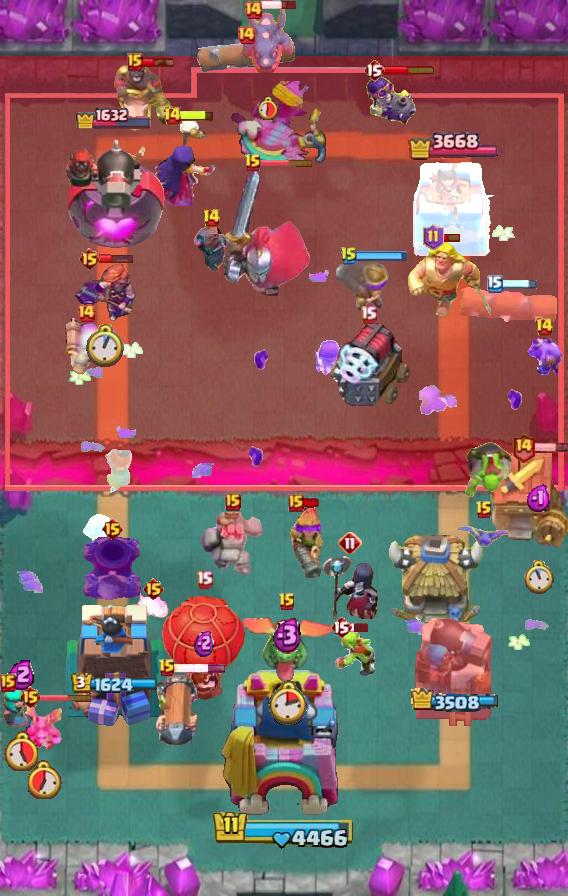bar: (383, 64, 436, 76), (356, 250, 408, 262), (174, 663, 227, 674), (39, 693, 93, 702), (260, 158, 314, 167), (179, 109, 215, 122), (501, 278, 538, 290), (140, 56, 176, 68), (261, 0, 298, 11), (533, 442, 568, 453), (99, 253, 134, 264), (302, 497, 321, 509), (350, 622, 370, 633), (441, 232, 461, 243)
bar-level: (511, 432, 536, 463), (338, 531, 362, 555), (19, 685, 42, 709), (142, 577, 165, 601), (101, 517, 124, 541), (78, 247, 101, 271), (423, 224, 444, 250), (330, 615, 352, 639), (363, 58, 385, 82), (76, 303, 96, 323), (236, 25, 256, 45), (243, 0, 263, 20), (535, 317, 554, 337), (202, 208, 221, 228), (163, 106, 182, 126), (158, 658, 176, 678), (278, 592, 296, 612), (475, 500, 493, 520), (340, 246, 358, 266), (244, 153, 262, 173), (196, 570, 213, 589), (360, 305, 377, 324), (0, 674, 16, 692), (288, 494, 304, 512), (225, 493, 241, 511), (487, 275, 503, 293), (127, 53, 143, 71)
bat-evolution: (455, 525, 513, 551)
bomber-evolution: (365, 74, 417, 128)
cannoneer-tower: (61, 132, 168, 256), (410, 611, 496, 731)
clock: (268, 680, 307, 725), (86, 324, 124, 368), (4, 731, 38, 771), (28, 760, 62, 799), (524, 560, 554, 595), (257, 96, 277, 120)
electro-dragon: (239, 3, 295, 77)
elixir: (272, 616, 303, 654), (7, 658, 36, 690), (526, 484, 552, 513), (194, 629, 214, 657)
firecracker: (64, 315, 108, 377)
goblin: (332, 628, 376, 678)
goblin-ball: (464, 439, 514, 499)
golemite: (200, 512, 266, 578)
ice-spirit: (78, 512, 122, 544)
king-tower: (219, 670, 349, 826)
king-tower-bar: (212, 809, 356, 851)
lava-pup: (135, 591, 171, 623)
mini-pekka: (183, 220, 239, 276)
minion: (25, 701, 65, 751), (525, 334, 563, 376)
mortar: (80, 535, 144, 601)
musketeer: (287, 502, 329, 582), (336, 256, 392, 316)
night-witch: (318, 554, 382, 626)
queen-tower: (62, 599, 167, 731), (408, 158, 498, 256)
rascal-girl: (0, 686, 42, 730)
skeleton-evolution: (313, 338, 344, 378)
the-log: (456, 284, 558, 324), (197, 37, 295, 73)
tower-bar: (408, 129, 498, 164), (409, 688, 498, 713), (71, 672, 158, 694), (75, 105, 153, 129)
valkyrie: (99, 444, 137, 496)
valkyrie-evolution: (73, 260, 137, 324)
witch: (154, 118, 218, 206)
